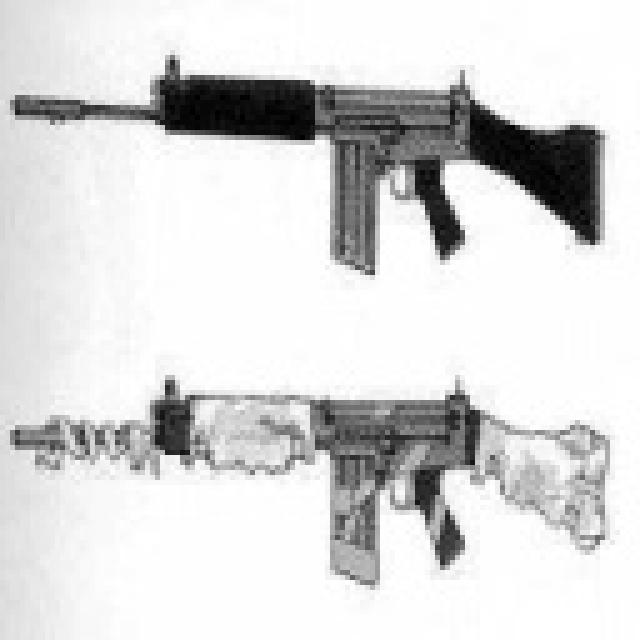Rifle: (0, 38, 623, 305), (7, 362, 618, 578)
